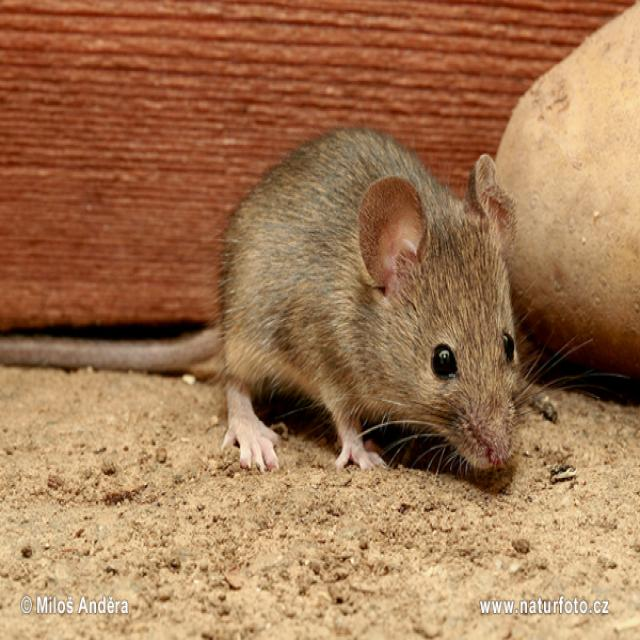rat: (0, 123, 572, 493)
